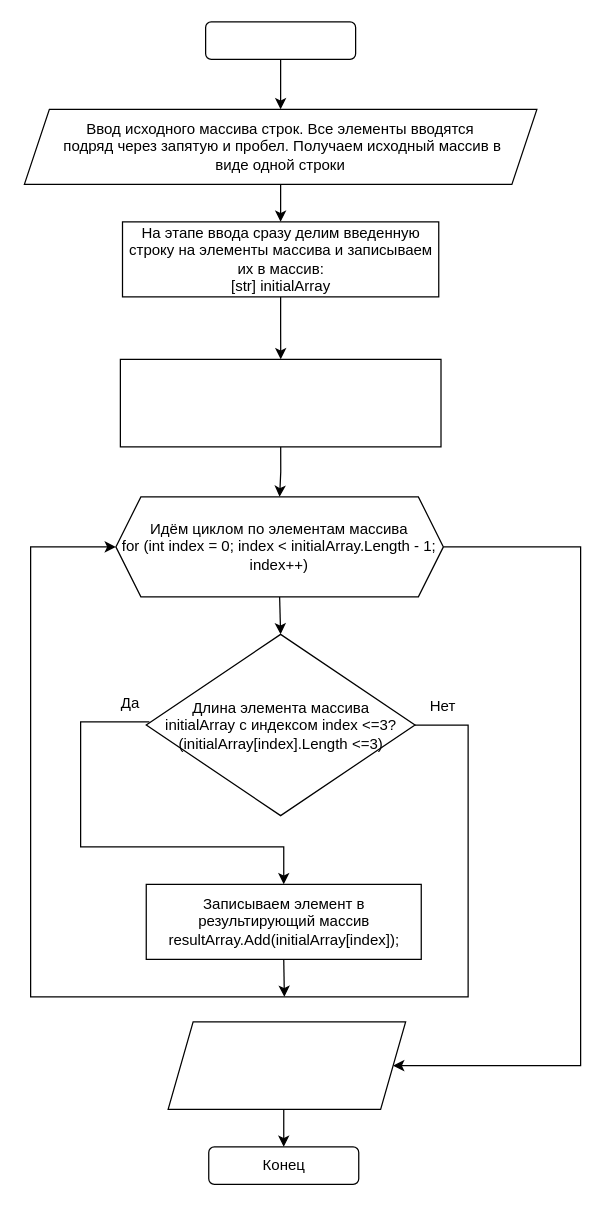
This 613x1206 diagram has some shape labels left out. Here are the shapes that lost their labels. From the top down, the centre of each, then its label:
At point (280, 40): "Начало".
At point (280, 402): "Создаём пустой массив для записи результатов [str] resultArray".
At point (286, 1065): "Выводим результирующий массив на экран".
